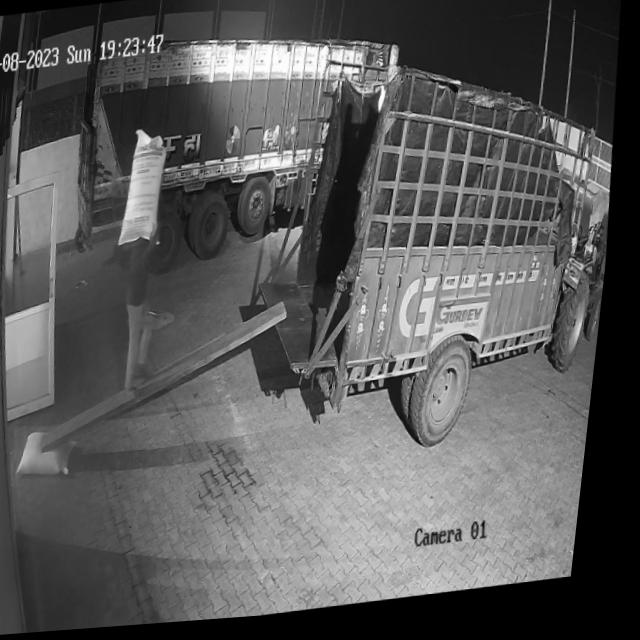sack: (118, 127, 177, 250), (25, 429, 89, 481)
